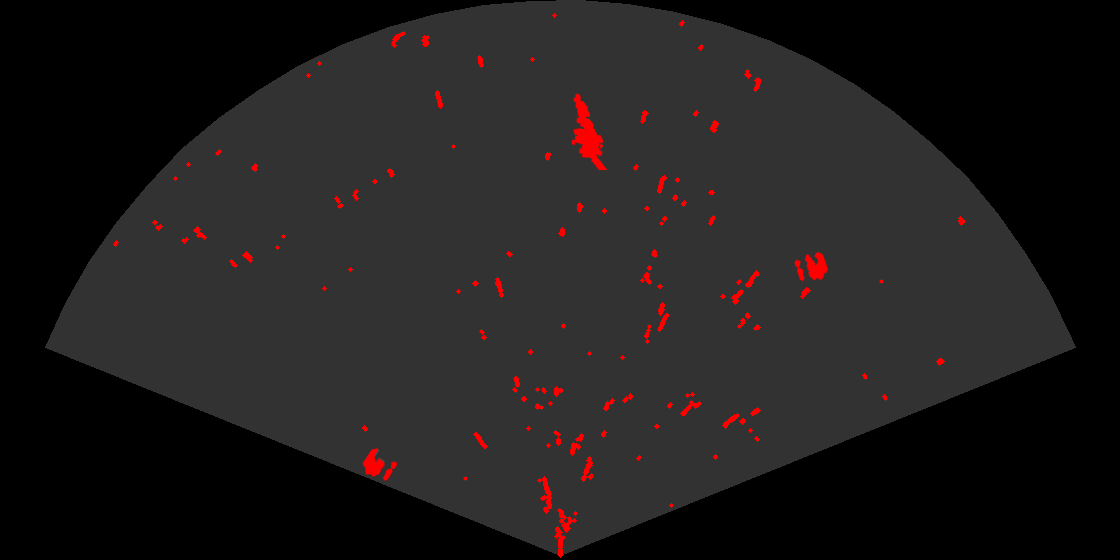ball: (361, 446, 399, 482), (793, 250, 830, 283)
frogman: (570, 92, 609, 170)
